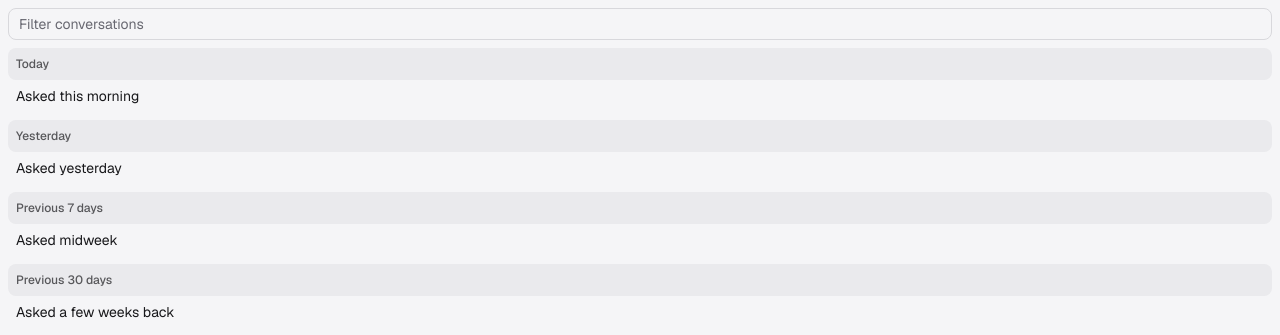
Scenario: ConversationList › keeps the groups while filtering, and drops headings that no longer match
Expected: the link "Asked this morning" is shown, [16,87,139,105]
Type "asked a" into the search field labelled "Filter conversations". click: (640, 24)
box: [8,8,1272,40]
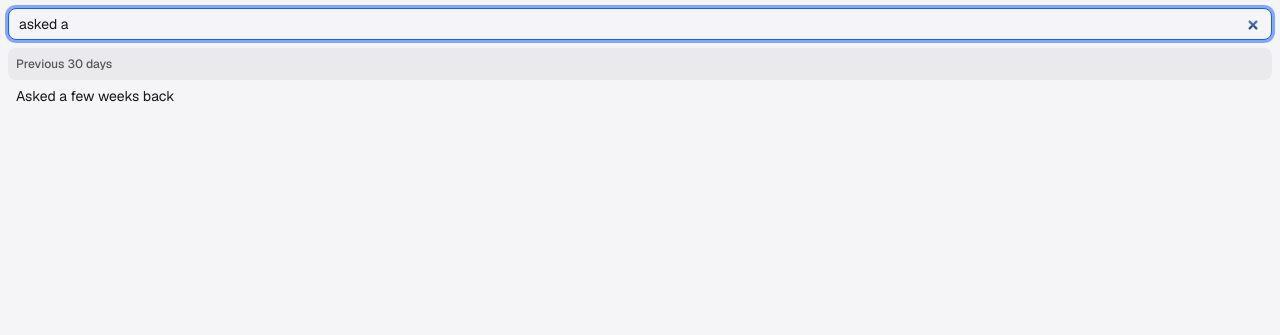
Expected: the link "Asked a few weeks back" is shown, [16,87,175,105]
Expected: the text "Today" is gone
Expected: the text "Yesterday" is gone
